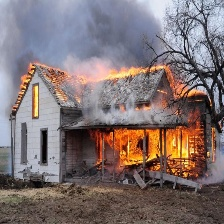fire: (21, 63, 199, 179)
smoke: (2, 1, 166, 61)
